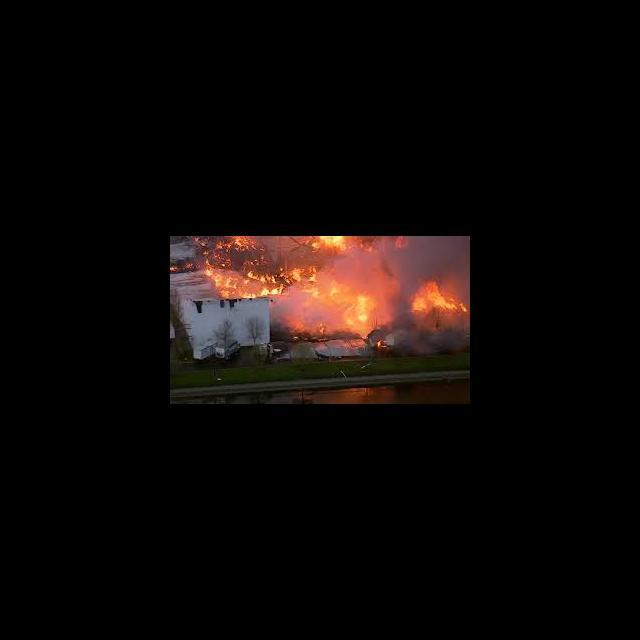Fire: (194, 236, 404, 328), (409, 282, 468, 318), (376, 341, 387, 348), (170, 266, 175, 274)
